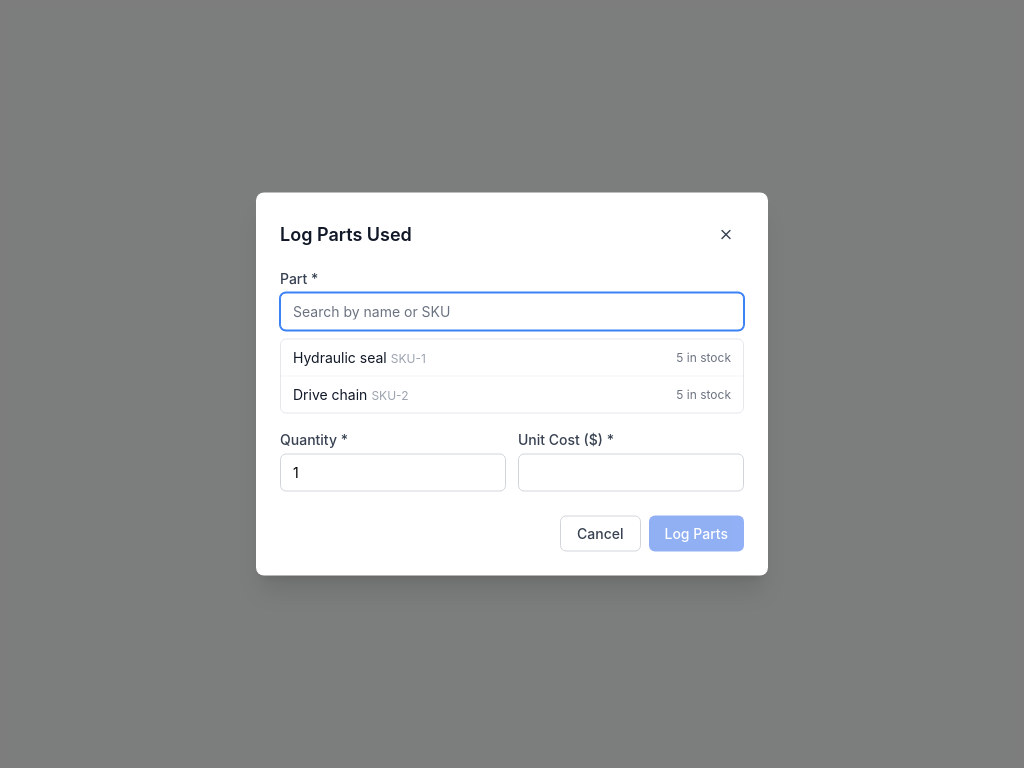
Test: PartLogModal › searches the catalog as you type
The image size is (1024, 768).
Expected: the text "Hydraulic seal" is shown, [293, 348, 387, 366]
Type "chain" into the search field labelled "Part *" at (512, 312), box [280, 292, 744, 330]
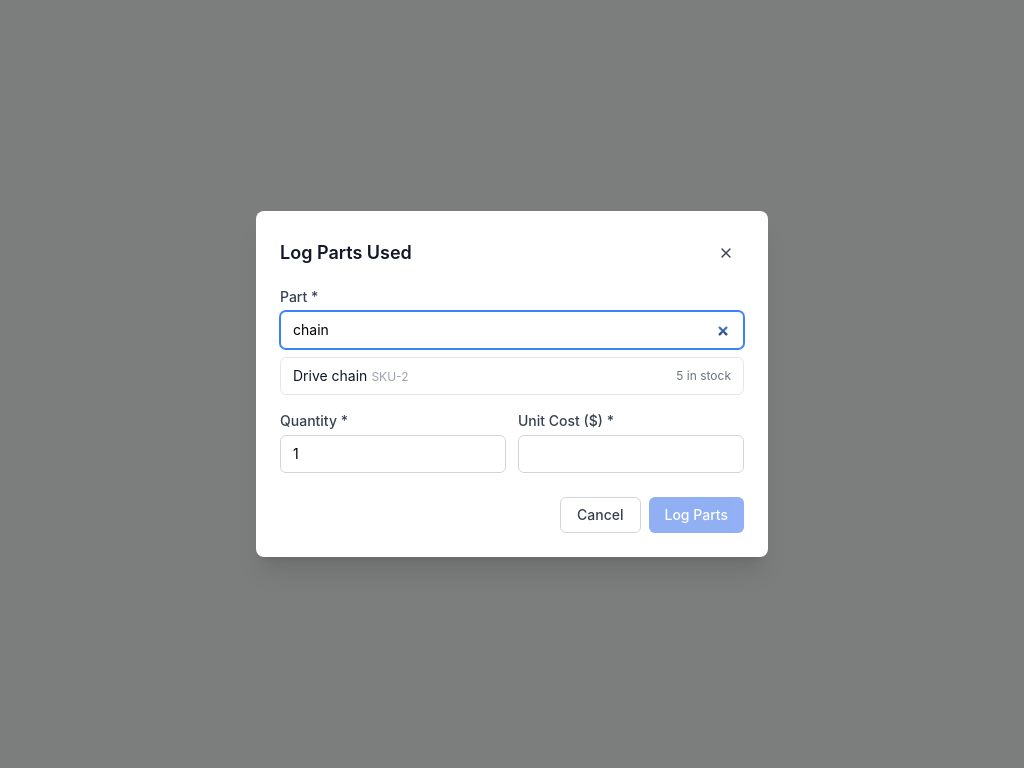
Expected: the text "Drive chain" is shown, [293, 367, 367, 384]
Now the button "Hydraulic seal" is gone
